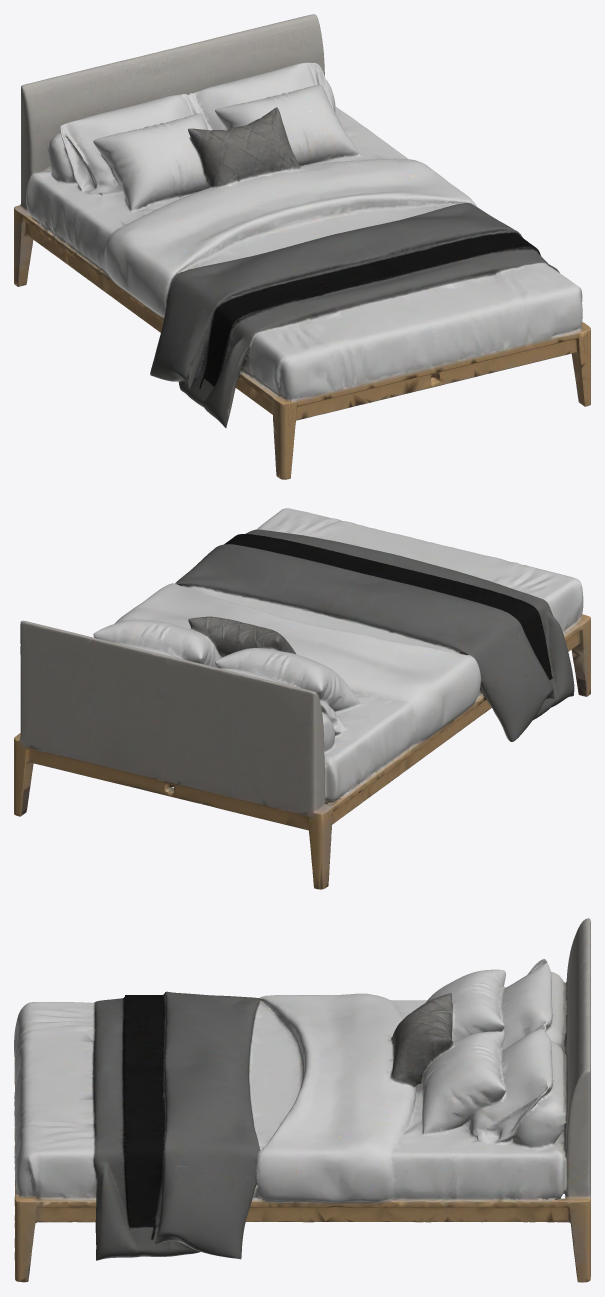
The model's file is right-bed-queen.glb.
3 renders of one model, top to bottom at view 1: azimuth 30°, elevation 25°; view 2: azimuth 150°, elevation 25°; view 3: azimuth 270°, elevation 25°, orthographic. The views are drawn at different scales.
Parts seen in each view (by area): view 1: Meshy_AI_Serene_Minimalist_Bed_20261119_texture; view 2: Meshy_AI_Serene_Minimalist_Bed_20261119_texture; view 3: Meshy_AI_Serene_Minimalist_Bed_20261119_texture.
Part boxes in pixels (left/top/right/bottom): Meshy_AI_Serene_Minimalist_Bed_20261119_texture: left=14, top=14, right=590, bottom=479; Meshy_AI_Serene_Minimalist_Bed_20261119_texture: left=14, top=508, right=590, bottom=889; Meshy_AI_Serene_Minimalist_Bed_20261119_texture: left=14, top=918, right=590, bottom=1282.
Bounding box in the file's own units: 1.71 × 0.8599 × 2.16.
Materials: 1 (1 with a texture image).
